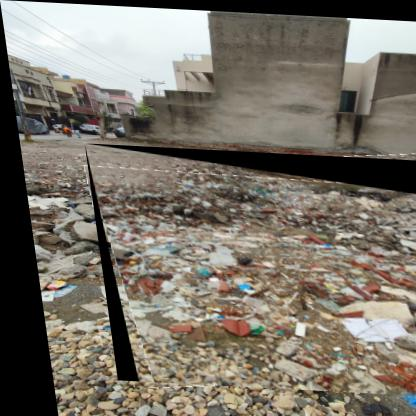Garbage: (81, 143, 416, 396)
